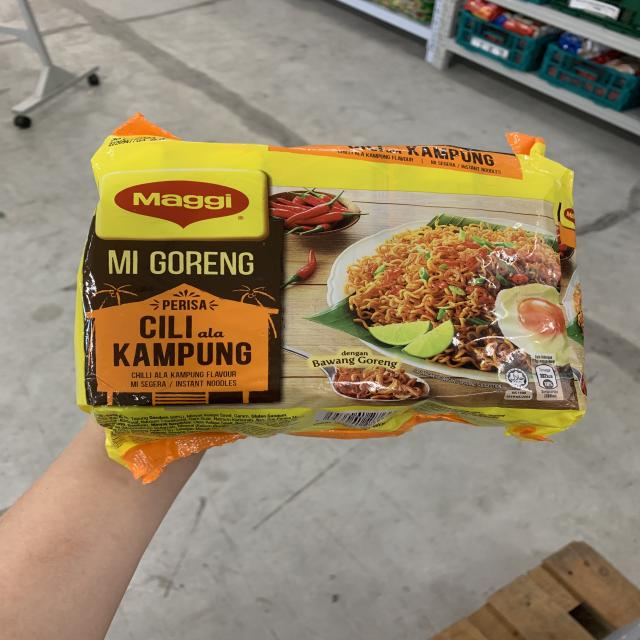object_name: (97, 139, 571, 427)
